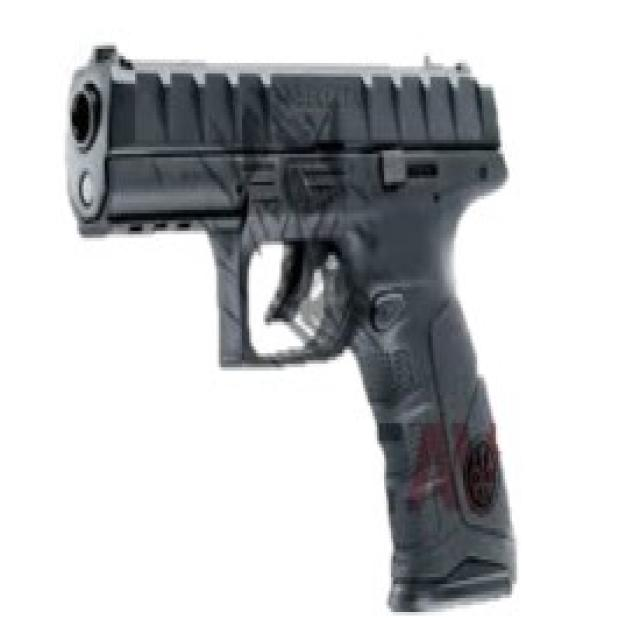pistol: (61, 32, 522, 630)
